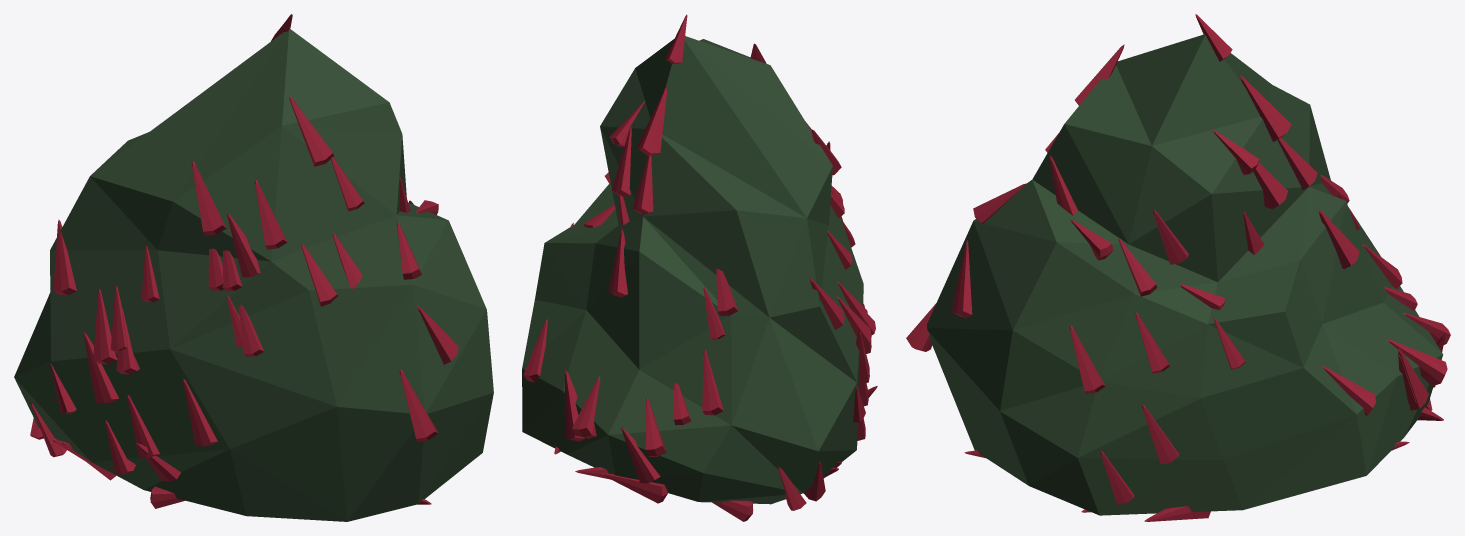
The model's file is bush.fbx.
The picture shows the model from 3 angles, left to right: view 1: azimuth 30°, elevation 25°; view 2: azimuth 150°, elevation 25°; view 3: azimuth 270°, elevation 25°; orthographic projection. The views are drawn at different scales.
Parts seen in each view (by area): view 1: bush, bush|thorn|Dupli|74, bush|thorn|Dupli|5, bush|thorn|Dupli|70, bush|thorn|Dupli|31, bush|thorn|Dupli|67, bush|thorn|Dupli|58, bush|thorn|Dupli|75, bush|thorn|Dupli|17, bush|thorn|Dupli|35, bush|thorn|Dupli|46, bush|thorn|Dupli|50 (+12 smaller); view 2: bush, bush|thorn|Dupli|68, bush|thorn|Dupli|4, bush|thorn|Dupli|9, bush|thorn|Dupli|56, bush|thorn|Dupli|43, bush|thorn|Dupli|72, bush|thorn|Dupli|71, bush|thorn|Dupli|52, bush|thorn|Dupli|44, bush|thorn|Dupli|41, bush|thorn|Dupli|40 (+11 smaller); view 3: bush, bush|thorn|Dupli|68, bush|thorn|Dupli|4, bush|thorn|Dupli|46, bush|thorn|Dupli|, bush|thorn|Dupli|52, bush|thorn|Dupli|71, bush|thorn|Dupli|21, bush|thorn|Dupli|72, bush|thorn|Dupli|40, bush|thorn|Dupli|73, bush|thorn|Dupli|66 (+9 smaller).
Boxes of the visible parts, <box> form: bush: <box>14,29,493,521</box>; bush|thorn|Dupli|74: <box>191,161,226,235</box>; bush|thorn|Dupli|5: <box>399,369,437,441</box>; bush|thorn|Dupli|70: <box>289,96,333,166</box>; bush|thorn|Dupli|31: <box>93,288,117,364</box>; bush|thorn|Dupli|67: <box>53,220,76,295</box>; bush|thorn|Dupli|58: <box>83,332,118,403</box>; bush|thorn|Dupli|75: <box>254,179,287,249</box>; bush|thorn|Dupli|17: <box>183,378,217,446</box>; bush|thorn|Dupli|35: <box>227,212,260,277</box>; bush|thorn|Dupli|46: <box>417,305,458,364</box>; bush|thorn|Dupli|50: <box>301,244,337,306</box>; bush: <box>522,36,863,504</box>; bush|thorn|Dupli|68: <box>637,86,667,155</box>; bush|thorn|Dupli|4: <box>572,376,600,438</box>; bush|thorn|Dupli|9: <box>702,349,723,415</box>; bush|thorn|Dupli|56: <box>601,473,667,503</box>; bush|thorn|Dupli|43: <box>621,427,660,483</box>; bush|thorn|Dupli|72: <box>632,155,653,214</box>; bush|thorn|Dupli|71: <box>611,126,631,197</box>; bush|thorn|Dupli|52: <box>608,228,627,297</box>; bush|thorn|Dupli|44: <box>565,369,584,441</box>; bush|thorn|Dupli|41: <box>646,398,666,456</box>; bush|thorn|Dupli|40: <box>523,319,547,382</box>; bush: <box>927,34,1443,515</box>; bush|thorn|Dupli|68: <box>1240,75,1291,141</box>; bush|thorn|Dupli|4: <box>1386,339,1447,386</box>; bush|thorn|Dupli|46: <box>951,240,972,317</box>; bush|thorn|Dupli|: <box>1069,325,1105,393</box>; bush|thorn|Dupli|52: <box>1318,209,1359,268</box>; bush|thorn|Dupli|71: <box>1241,147,1287,209</box>; bush|thorn|Dupli|21: <box>1142,404,1179,464</box>; bush|thorn|Dupli|72: <box>1277,138,1317,189</box>; bush|thorn|Dupli|40: <box>1322,366,1375,415</box>; bush|thorn|Dupli|73: <box>1153,210,1188,264</box>; bush|thorn|Dupli|66: <box>1135,312,1170,373</box>.
Bounding box in the file's own units: 299 × 365 × 388.
